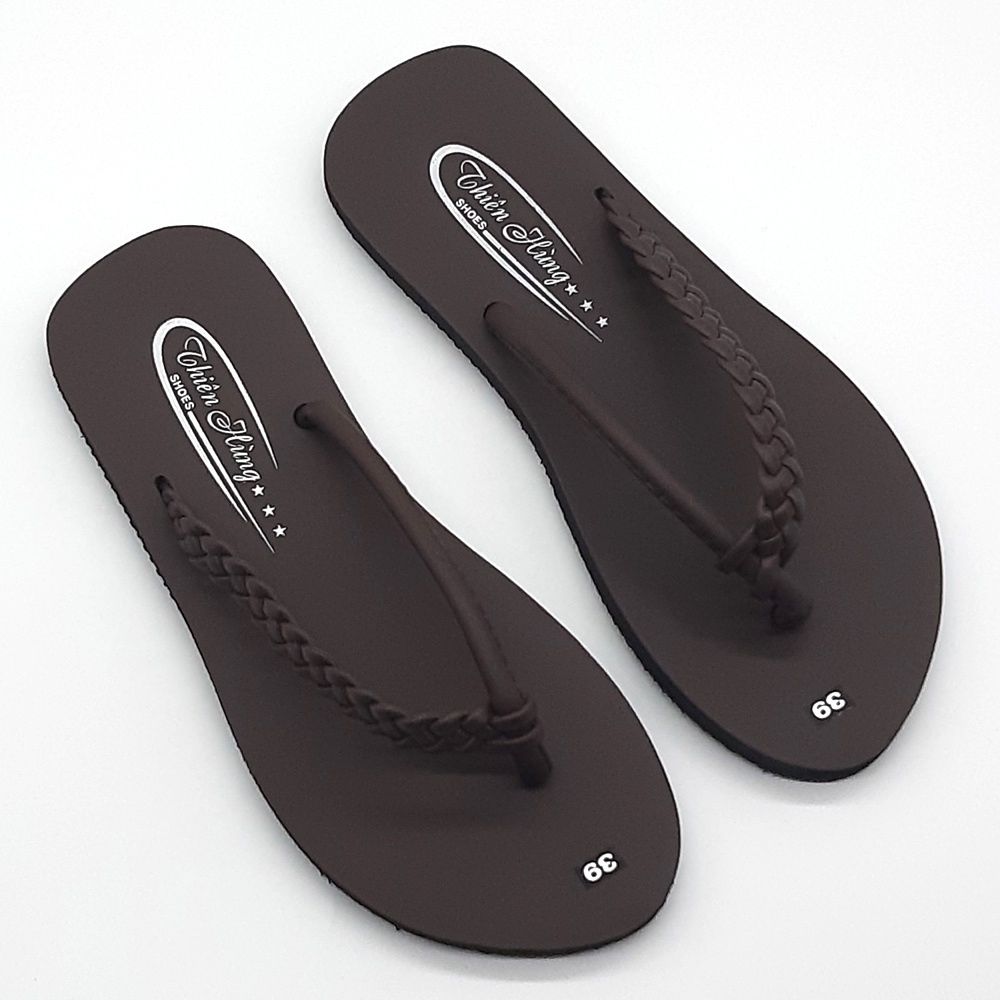flip_flops: (45, 225, 683, 958), (321, 44, 942, 784)
